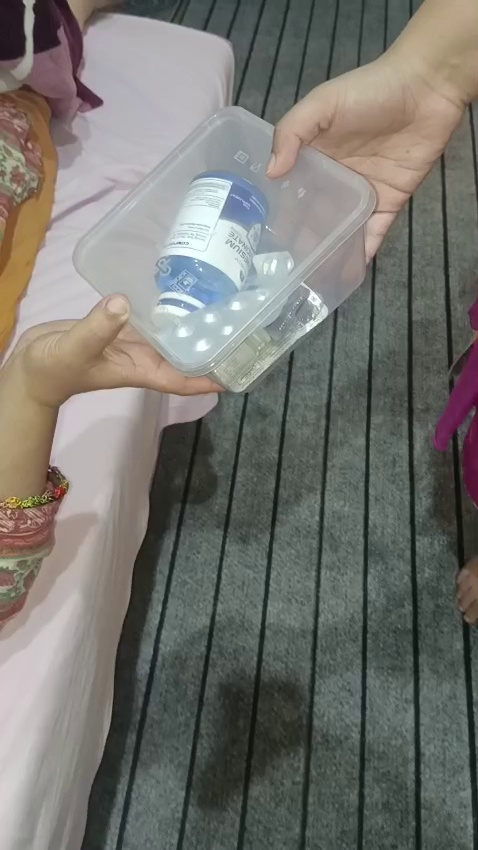medicine box: (54, 83, 401, 393)
